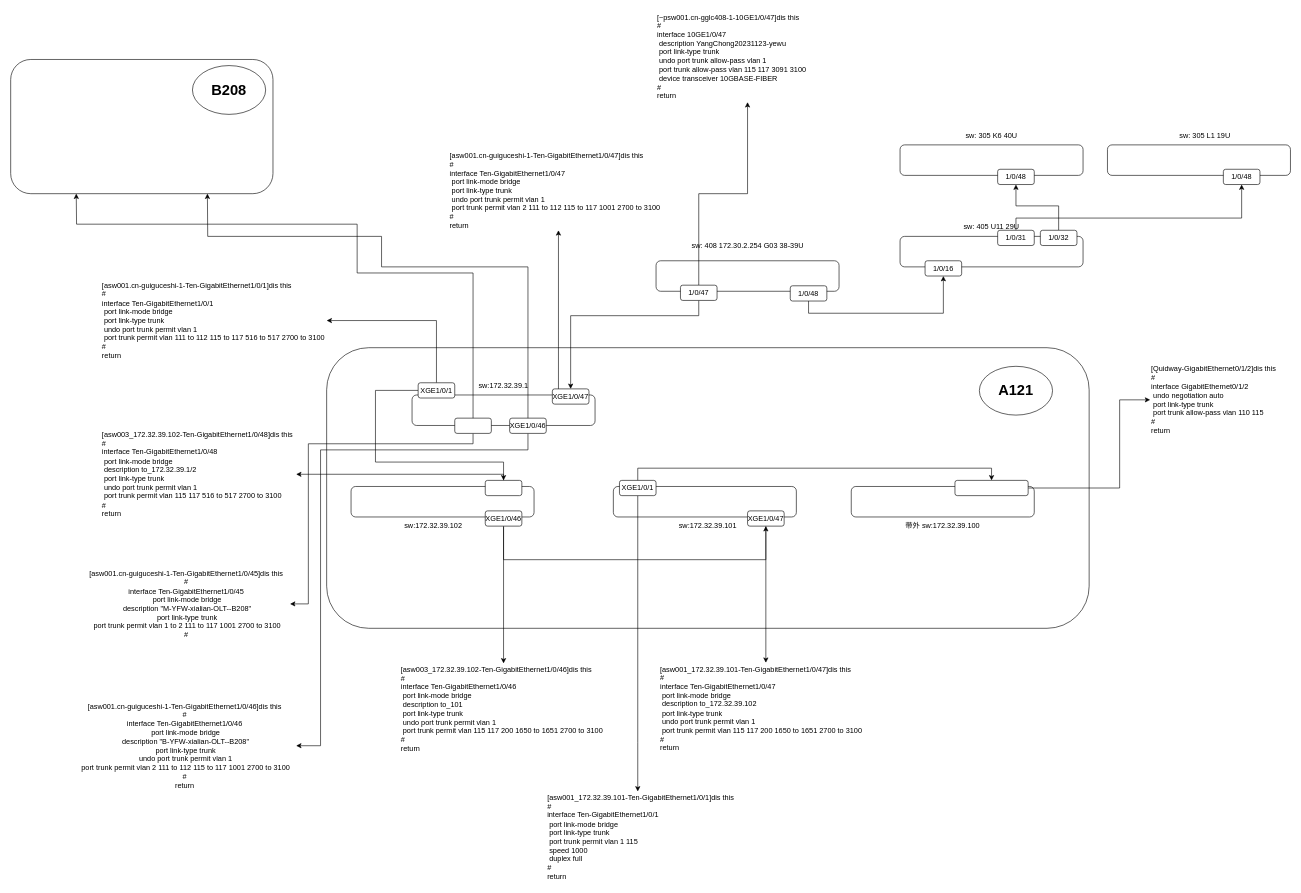
Image size: 1301x893. Some labels were removed from this diagram. Each missing label, with the centre of its shape:
GigabitEthernet0/1/2: the point at 991,488
XGE1/0/45: the point at 472,425
XGE1/0/48: the point at 503,488
